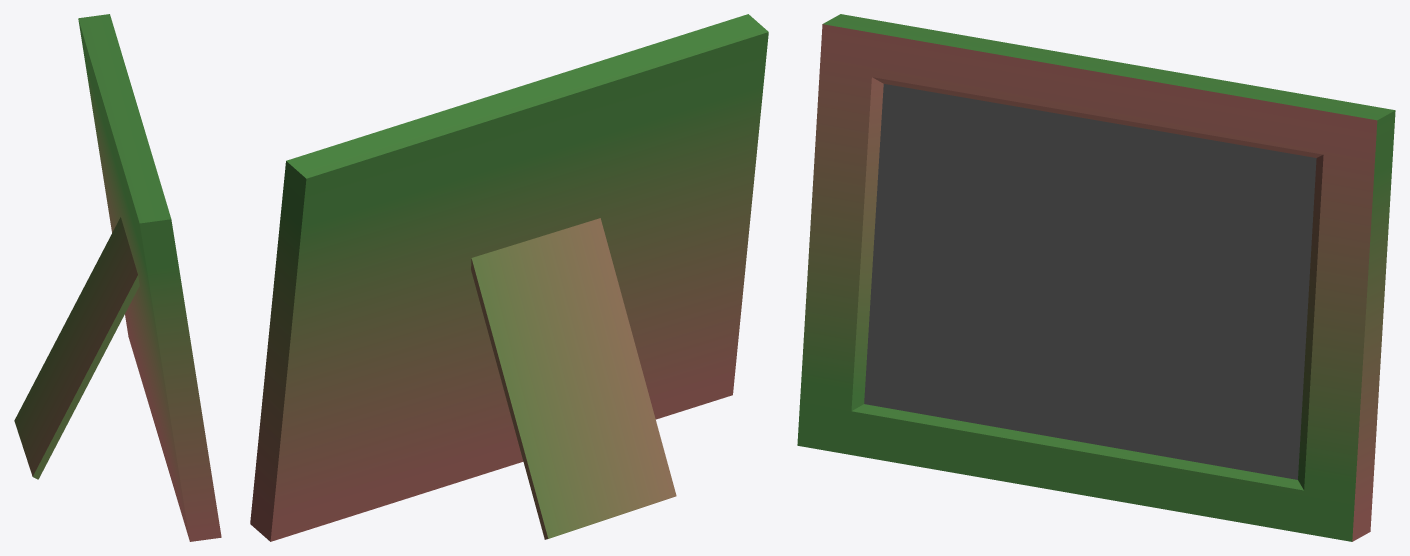
The model's file is Office_Photoframe.fbx.
3 views of the same model, side by side, from view 1: azimuth 30°, elevation 25°; view 2: azimuth 150°, elevation 25°; view 3: azimuth 270°, elevation 25° (orthographic). The views are drawn at different scales.
Visible parts, largest first — view 1: Office_Photoframe; view 2: Office_Photoframe; view 3: Office_Photoframe.
Boxes of the visible parts, x1=… form: Office_Photoframe: x1=14, y1=14, x2=221, y2=541; Office_Photoframe: x1=250, y1=14, x2=768, y2=541; Office_Photoframe: x1=797, y1=14, x2=1395, y2=541.
Size of the model in its own units: 19.34 by 24.9 by 33.43.
